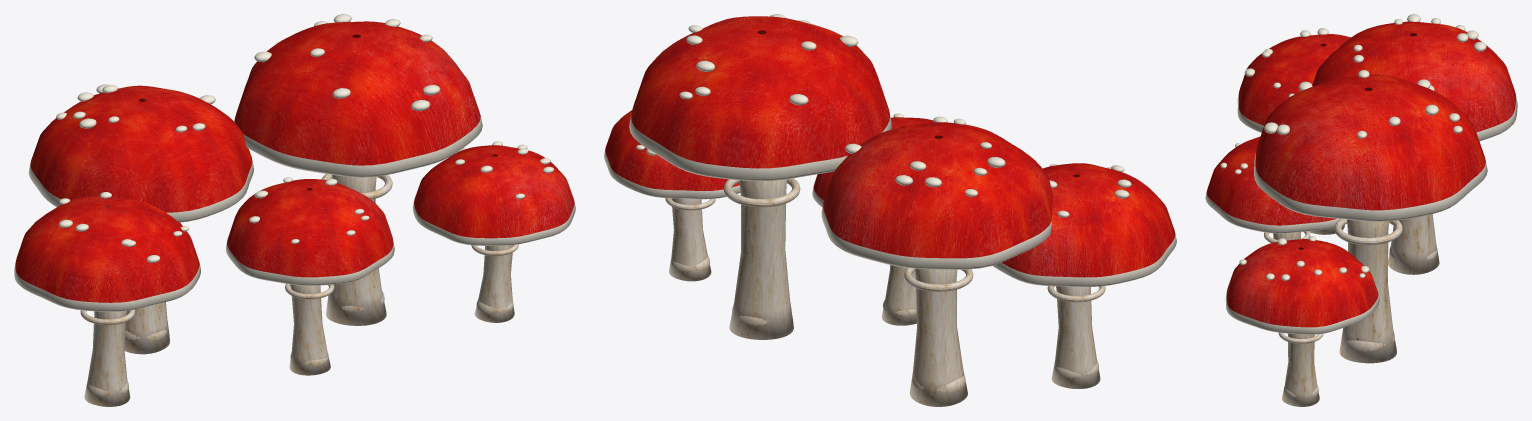
The model's file is amanita-muscaria-v01.glb.
3 views of the same model, side by side, from view 1: azimuth 30°, elevation 25°; view 2: azimuth 150°, elevation 25°; view 3: azimuth 270°, elevation 25° (orthographic). The views are drawn at different scales.
Visible parts, largest first — view 1: Amanita 4 red spotted cap, Amanita 2 red spotted cap, Amanita 1 red spotted cap, Amanita 3 red spotted cap, Amanita 5 red spotted cap, mushroom 1 ivory stem, mushroom 4 ivory stem, mushroom 3 ivory stem, mushroom 5 ivory stem, mushroom 2 ivory stem; view 2: Amanita 4 red spotted cap, Amanita 2 red spotted cap, Amanita 1 red spotted cap, mushroom 4 ivory stem, mushroom 2 ivory stem, Amanita 5 red spotted cap, mushroom 1 ivory stem, mushroom 5 ivory stem, mushroom 3 ivory stem, Amanita 4 stem ring, Amanita 3 red spotted cap, Amanita 2 stem ring; view 3: Amanita 4 red spotted cap, Amanita 2 red spotted cap, Amanita 5 red spotted cap, Amanita 3 red spotted cap, Amanita 1 red spotted cap, mushroom 4 ivory stem, mushroom 2 ivory stem, mushroom 5 ivory stem, Amanita 4 stem ring, Amanita 4 basal volva.
Boxes of the visible parts, bbox=[...] form: Amanita 4 red spotted cap: bbox=[234, 21, 482, 177]; Amanita 2 red spotted cap: bbox=[28, 85, 253, 222]; Amanita 1 red spotted cap: bbox=[14, 196, 200, 311]; Amanita 3 red spotted cap: bbox=[226, 179, 394, 285]; Amanita 5 red spotted cap: bbox=[412, 145, 575, 245]; mushroom 1 ivory stem: bbox=[84, 311, 130, 406]; mushroom 4 ivory stem: bbox=[326, 175, 386, 325]; mushroom 3 ivory stem: bbox=[289, 284, 330, 375]; mushroom 5 ivory stem: bbox=[474, 245, 514, 322]; mushroom 2 ivory stem: bbox=[124, 302, 169, 354]; Amanita 4 red spotted cap: bbox=[629, 16, 891, 181]; Amanita 2 red spotted cap: bbox=[821, 122, 1052, 269]; Amanita 1 red spotted cap: bbox=[992, 163, 1176, 286]; mushroom 4 ivory stem: bbox=[729, 179, 793, 339]; mushroom 2 ivory stem: bbox=[909, 268, 967, 406]; Amanita 5 red spotted cap: bbox=[604, 110, 740, 199]; mushroom 1 ivory stem: bbox=[1051, 286, 1100, 388]; mushroom 5 ivory stem: bbox=[669, 198, 711, 281]; mushroom 3 ivory stem: bbox=[882, 265, 916, 325]; Amanita 4 stem ring: bbox=[723, 178, 800, 207]; Amanita 3 red spotted cap: bbox=[812, 117, 933, 207]; Amanita 2 stem ring: bbox=[904, 268, 973, 291]; Amanita 4 red spotted cap: bbox=[1254, 74, 1487, 221]; Amanita 2 red spotted cap: bbox=[1312, 21, 1517, 141]; Amanita 5 red spotted cap: bbox=[1225, 239, 1379, 334]; Amanita 3 red spotted cap: bbox=[1205, 136, 1339, 233]; Amanita 1 red spotted cap: bbox=[1237, 34, 1350, 132]; mushroom 4 ivory stem: bbox=[1339, 219, 1396, 363]; mushroom 2 ivory stem: bbox=[1388, 214, 1439, 274]; mushroom 5 ivory stem: bbox=[1282, 333, 1319, 406]; Amanita 4 stem ring: bbox=[1334, 219, 1402, 245]; Amanita 4 basal volva: bbox=[1345, 332, 1394, 351].
Size of the model in its own units: 1.03 by 0.5203 by 0.556.
Materials: 4 (2 with a texture image).
